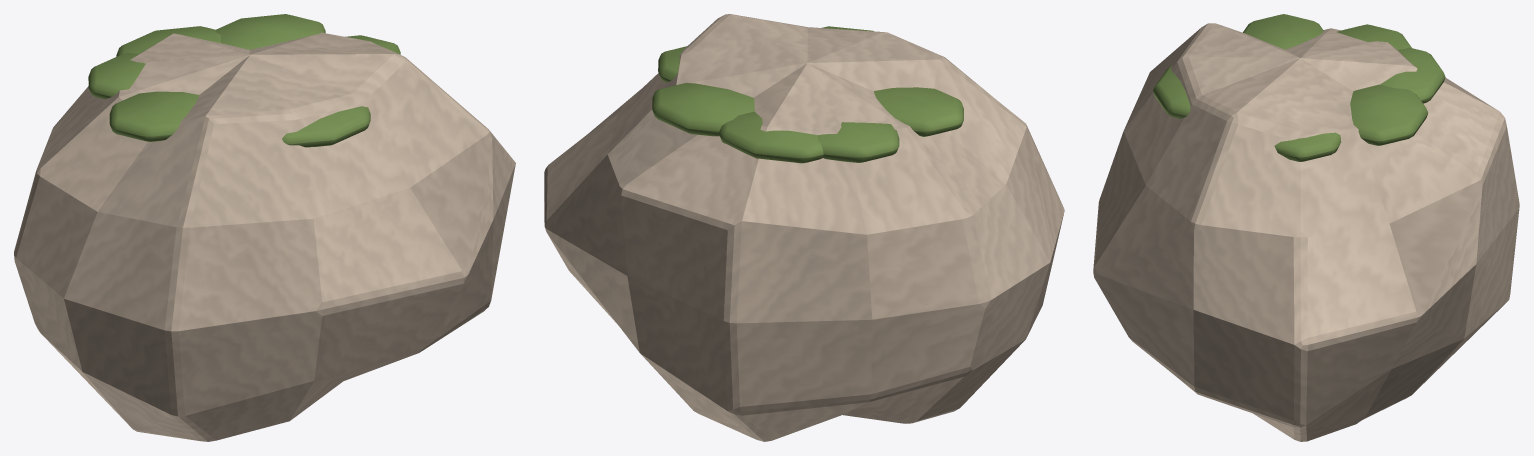
Rendered from rock_deco_2.glb.
The picture shows the model from 3 angles, left to right: view 1: azimuth 30°, elevation 25°; view 2: azimuth 150°, elevation 25°; view 3: azimuth 270°, elevation 25°; orthographic projection. The views are drawn at different scales.
Parts seen in each view (by area): view 1: rock_deco_2; view 2: rock_deco_2; view 3: rock_deco_2.
Part boxes in pixels (left/top/right/bottom): rock_deco_2: left=14, top=14, right=515, bottom=441; rock_deco_2: left=544, top=14, right=1064, bottom=441; rock_deco_2: left=1093, top=14, right=1519, bottom=441.
Bounding box in the file's own units: 1.52 × 1.03 × 1.22.
2 materials, 2 textured.
